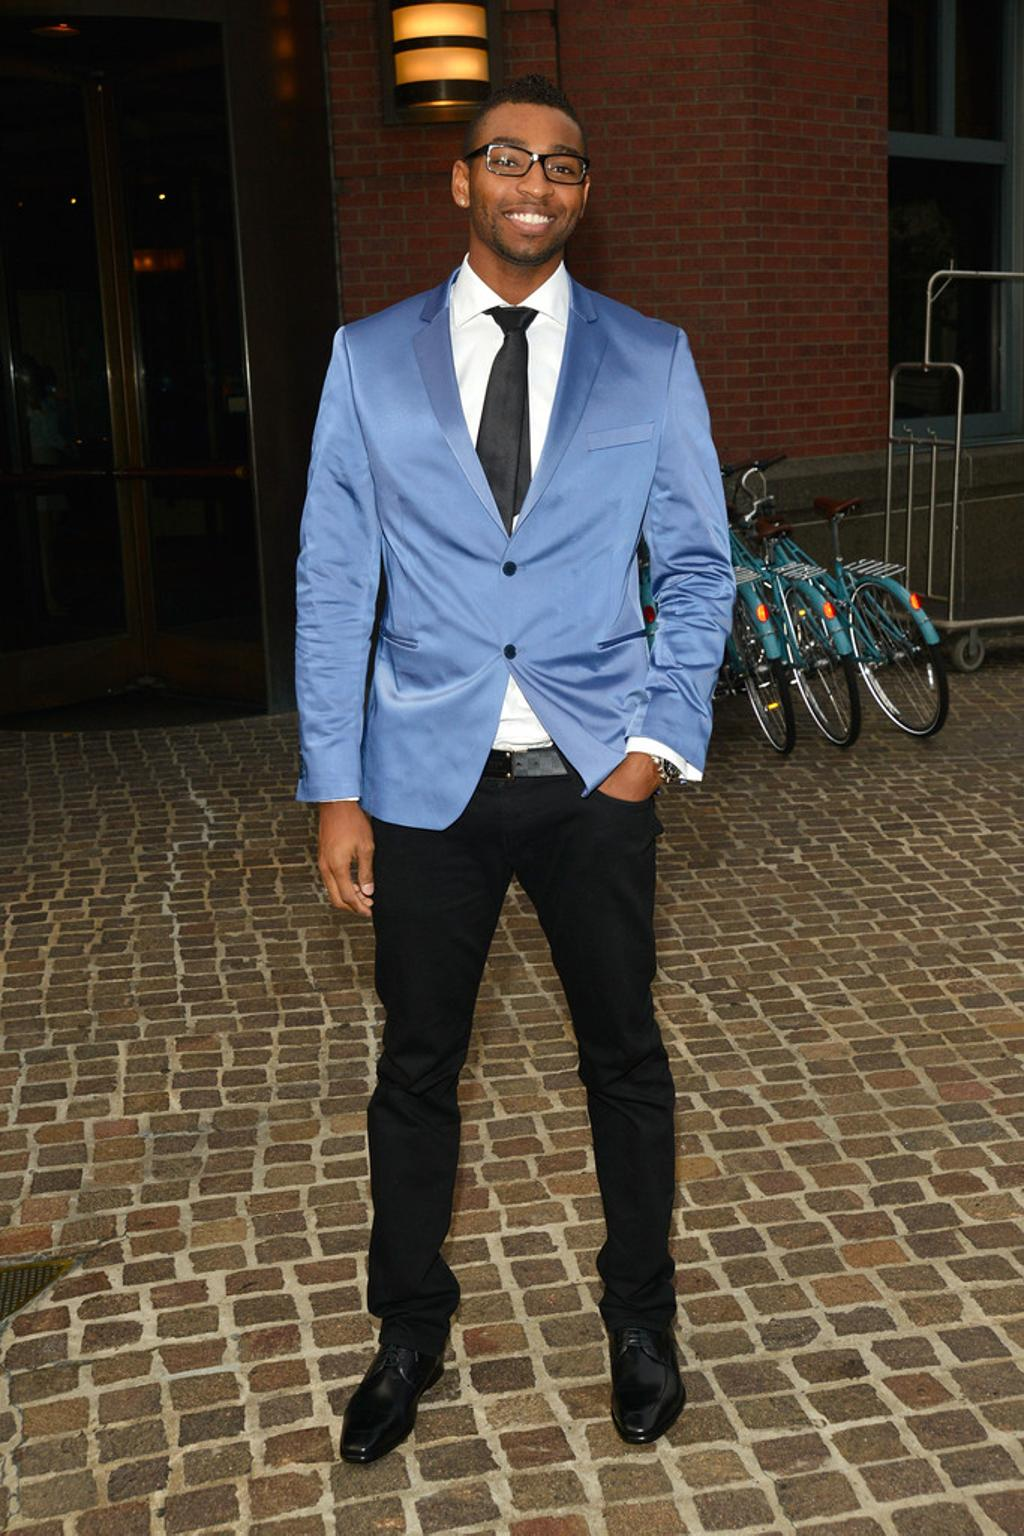face: (470, 108, 584, 255)
